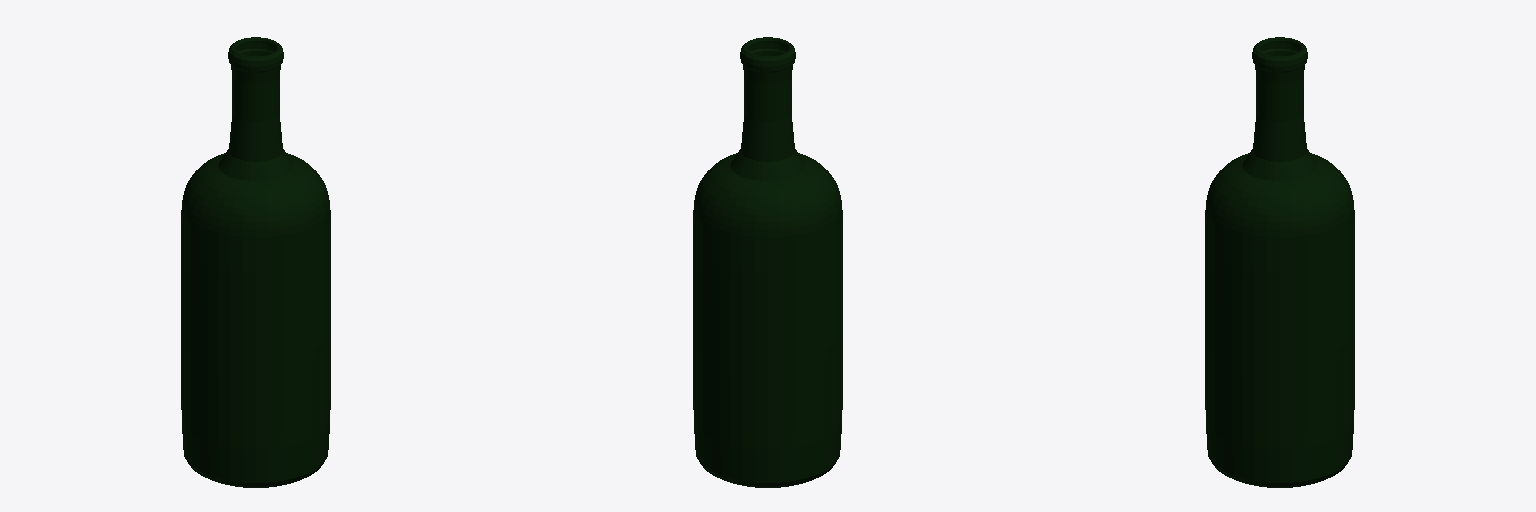
The model's file is bottle.obj.
3 renders of one model, left to right at view 1: azimuth 30°, elevation 25°; view 2: azimuth 150°, elevation 25°; view 3: azimuth 270°, elevation 25°, orthographic.
Visible parts, largest first — view 1: Bottle.001_BottleMesh.001; view 2: Bottle.001_BottleMesh.001; view 3: Bottle.001_BottleMesh.001.
Boxes of the visible parts, <box> form: Bottle.001_BottleMesh.001: <box>181,37,330,487</box>; Bottle.001_BottleMesh.001: <box>693,37,842,487</box>; Bottle.001_BottleMesh.001: <box>1205,37,1354,487</box>.
Size of the model in its own units: 0.6068 by 1.86 by 0.6067.